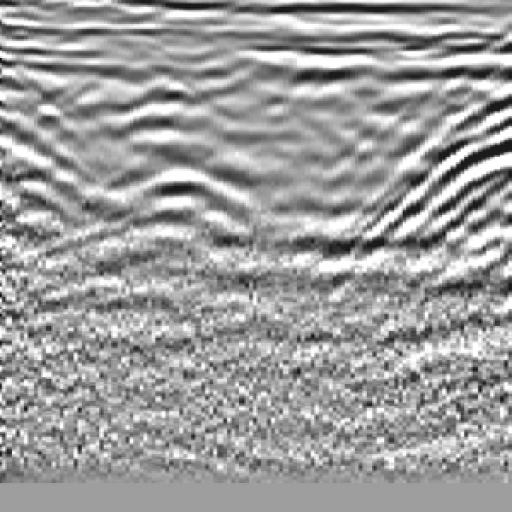metalic: (96, 37, 252, 284)
nonmetalic: (371, 57, 512, 288)
